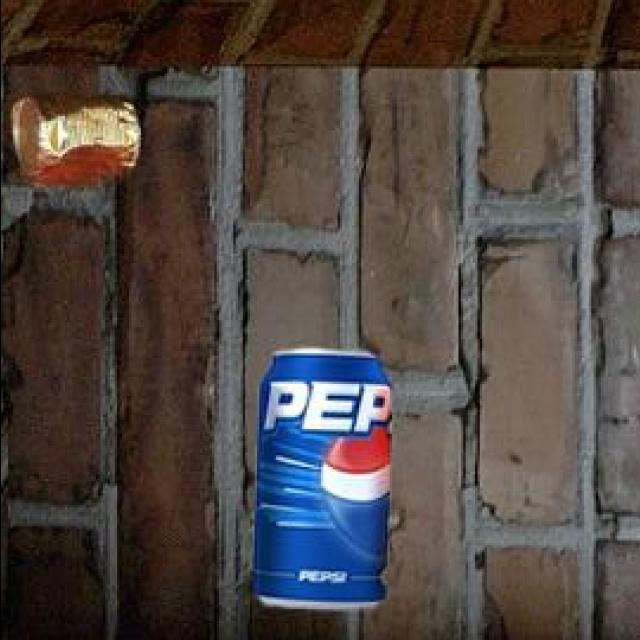logam: (257, 345, 395, 606), (15, 89, 141, 181)
